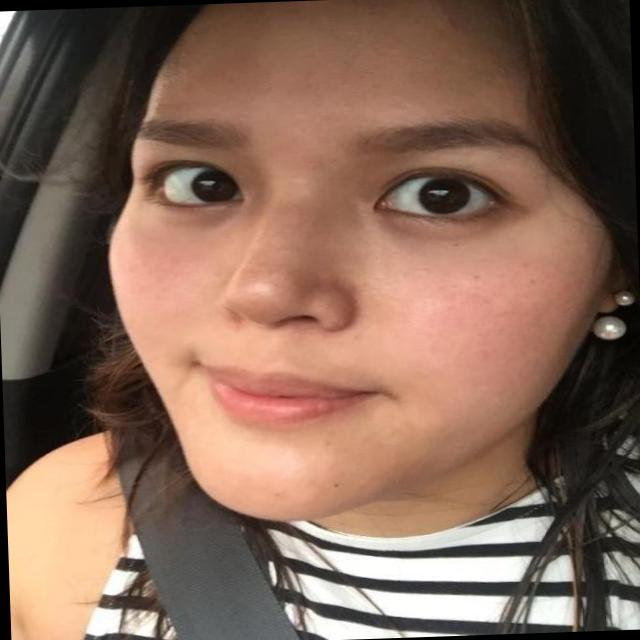redness: (397, 264, 565, 371), (122, 244, 212, 324)
